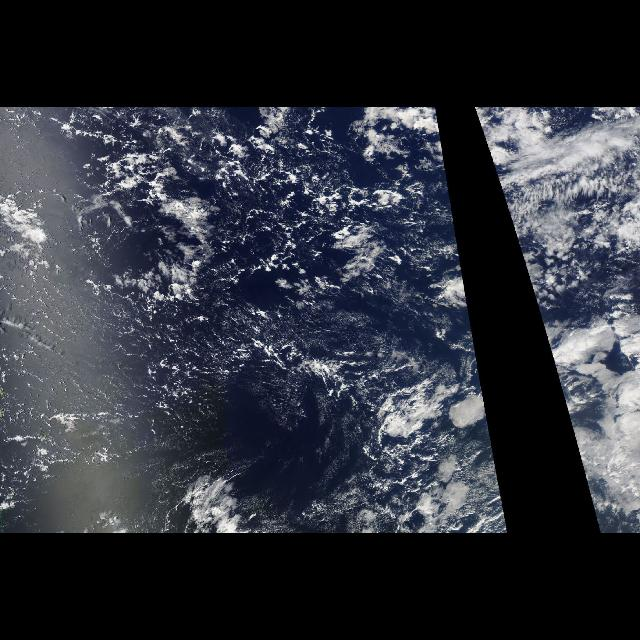Gravel: (51, 110, 461, 354)
